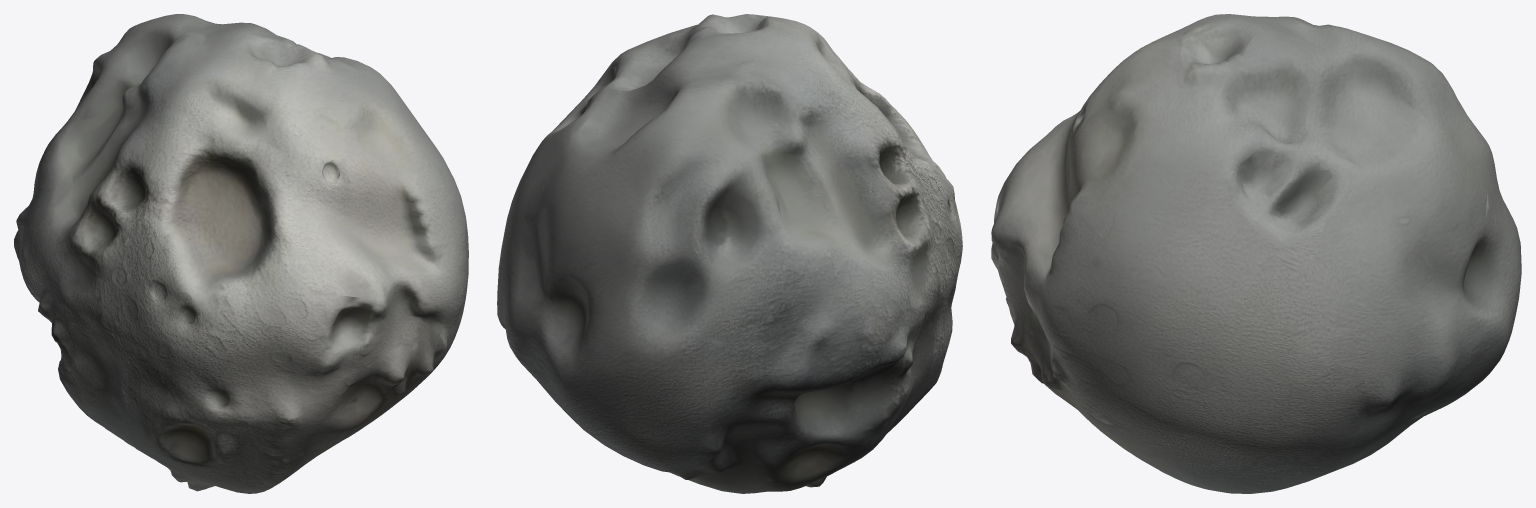
File: meteorito2.glb
3 views of the same model, side by side, from view 1: azimuth 30°, elevation 25°; view 2: azimuth 150°, elevation 25°; view 3: azimuth 270°, elevation 25° (orthographic). The views are drawn at different scales.
Visible parts, largest first — view 1: Galaxy_Meteor2_Web; view 2: Galaxy_Meteor2_Web; view 3: Galaxy_Meteor2_Web.
Part boxes in pixels (x1=…): Galaxy_Meteor2_Web: x1=14, y1=14, x2=468, y2=493; Galaxy_Meteor2_Web: x1=497, y1=14, x2=962, y2=493; Galaxy_Meteor2_Web: x1=991, y1=14, x2=1521, y2=493.
Size of the model in its own units: 1 by 1.09 by 1.14.
1 material, 1 textured.
